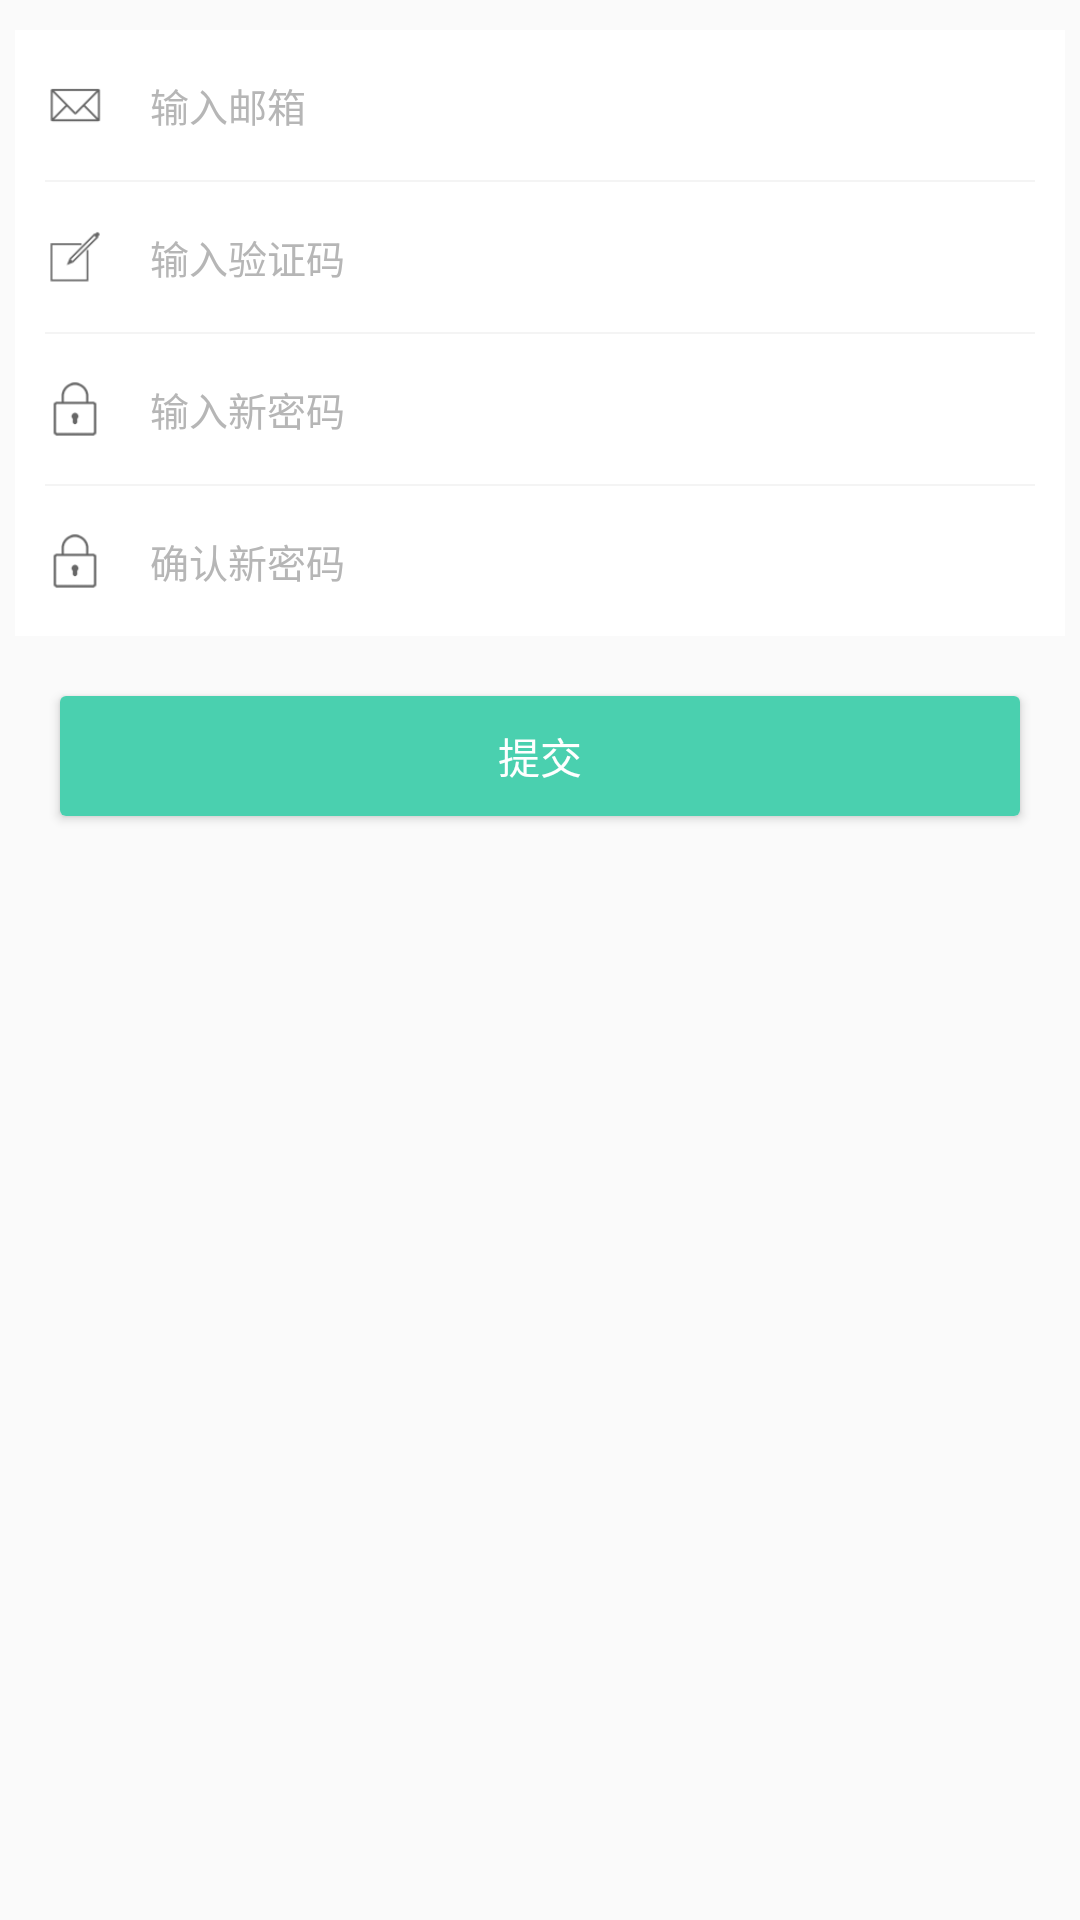

Where icons sit on this 1080*1920 app screen, as detection(x1, y1, x2, y2):
email: detection(50, 89, 101, 122)
password: detection(53, 382, 97, 436), detection(53, 534, 97, 588)
